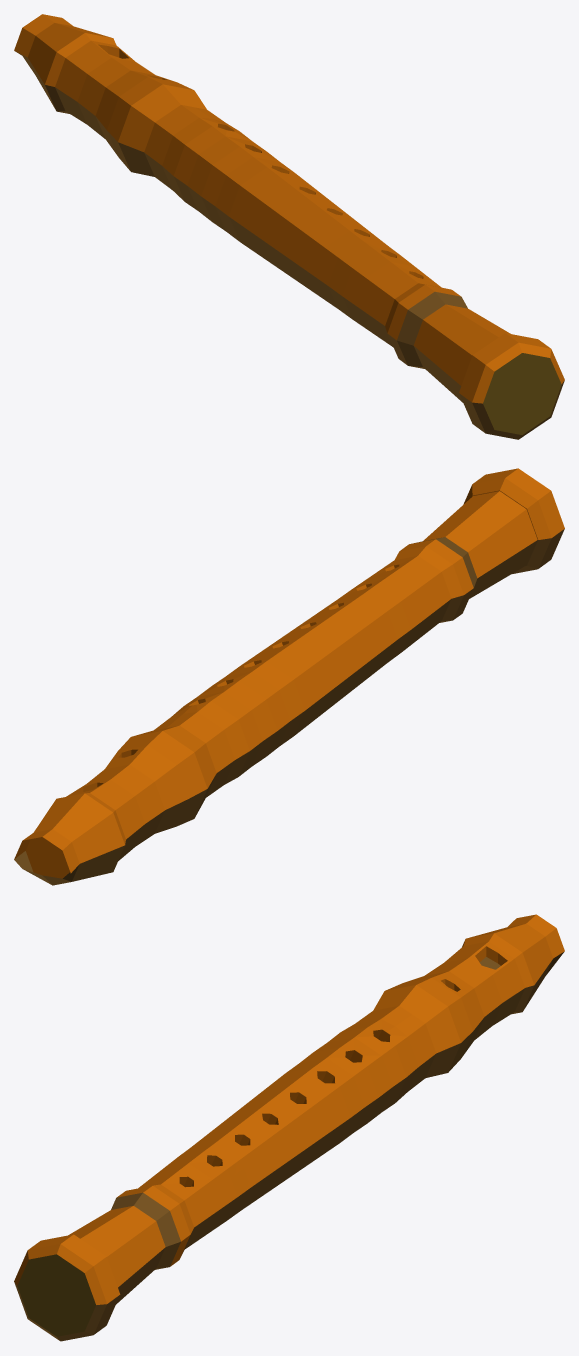
The model's file is Flute.fbx.
3 renders of one model, top to bottom at view 1: azimuth 30°, elevation 25°; view 2: azimuth 150°, elevation 25°; view 3: azimuth 330°, elevation 25°, orthographic.
Parts seen in each view (by area): view 1: Flute; view 2: Flute; view 3: Flute.
Boxes of the visible parts, x1=… form: Flute: x1=14, y1=14, x2=564, y2=439; Flute: x1=14, y1=468, x2=564, y2=885; Flute: x1=14, y1=914, x2=564, y2=1341.
Bounding box in the file's own units: 20.55 × 20.55 × 184.
